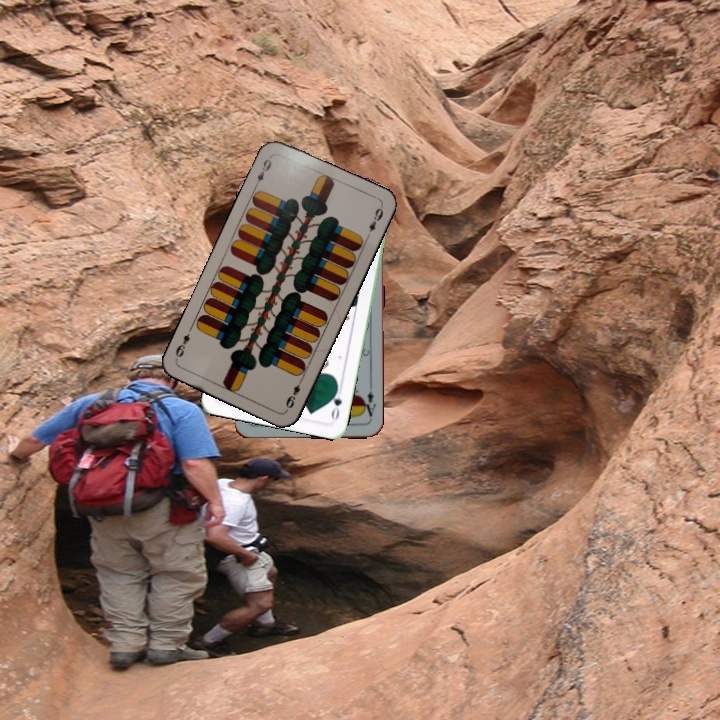E9: (281, 374, 306, 411), (250, 152, 274, 190)
EA: (359, 382, 378, 419)
GO: (327, 382, 345, 423)
